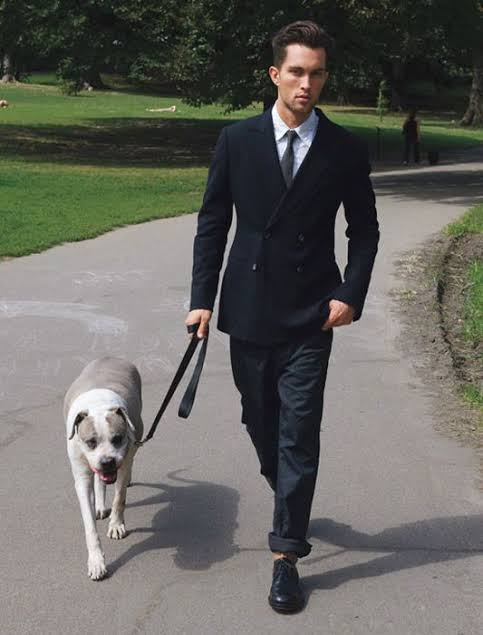dog: (66, 357, 131, 570)
person: (190, 20, 385, 618)
